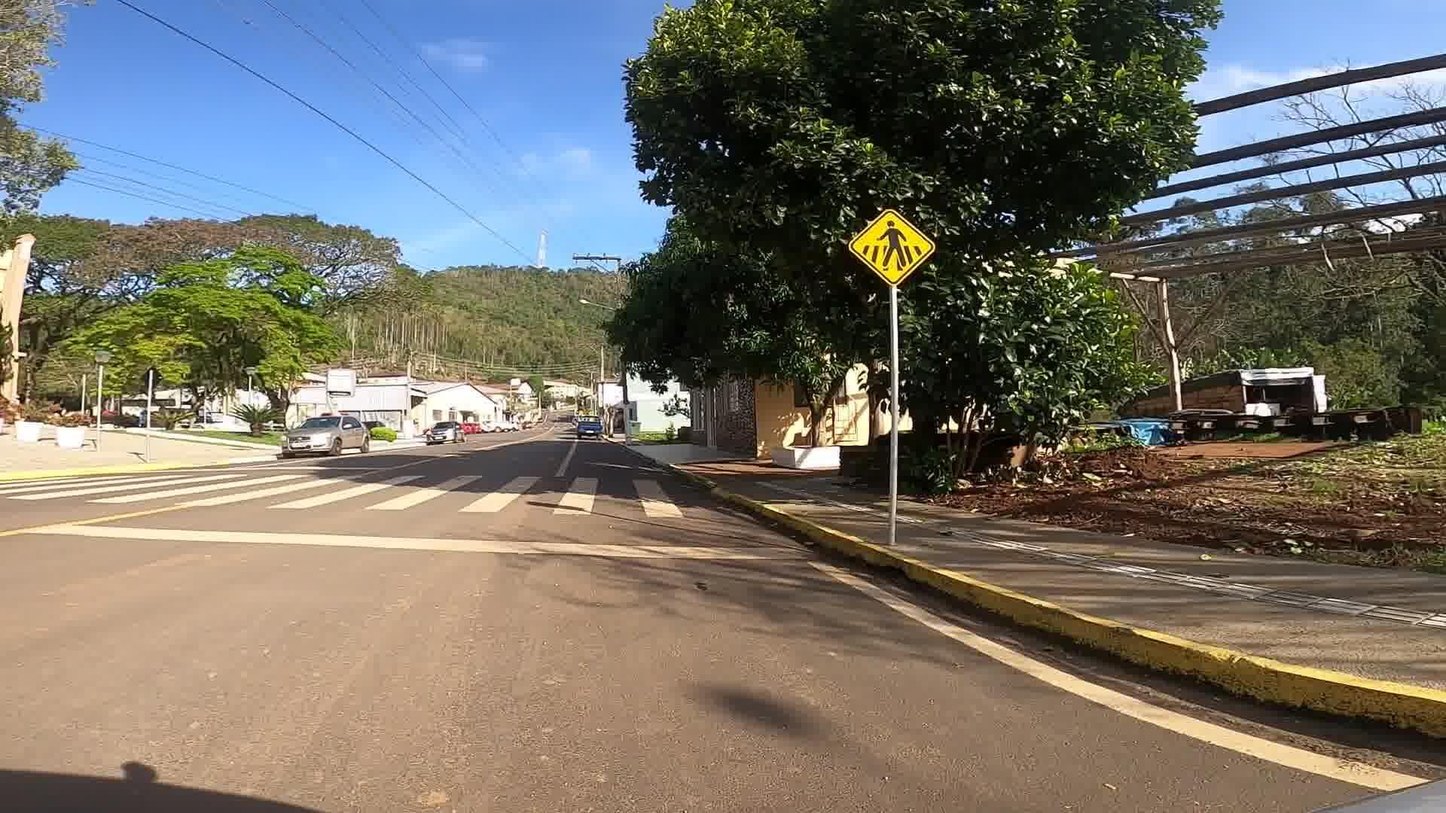A-32b: (846, 205, 938, 291)
